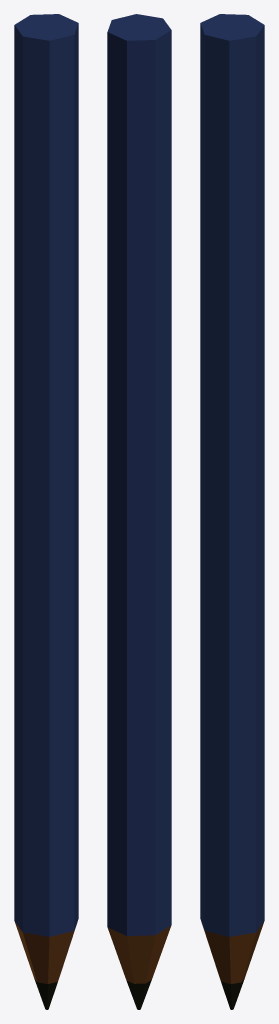
File: pencilBlue 1.fbx
3 views of the same model, side by side, from view 1: azimuth 30°, elevation 25°; view 2: azimuth 210°, elevation 25°; view 3: azimuth 330°, elevation 25° (orthographic).
Visible parts, largest first — view 1: Cylinder, Cylinder.001, Cylinder.002; view 2: Cylinder, Cylinder.001, Cylinder.002; view 3: Cylinder, Cylinder.001, Cylinder.002.
Part boxes in pixels (<box>): Cylinder: <box>14,14,78,936</box>; Cylinder.001: <box>15,922,76,983</box>; Cylinder.002: <box>34,978,57,1009</box>; Cylinder: <box>107,14,171,935</box>; Cylinder.001: <box>107,926,170,983</box>; Cylinder.002: <box>126,980,151,1009</box>; Cylinder: <box>200,14,264,936</box>; Cylinder.001: <box>202,922,263,983</box>; Cylinder.002: <box>221,978,244,1009</box>.
Bounding box in the file's own units: 0.9749 × 16.44 × 0.9505.
